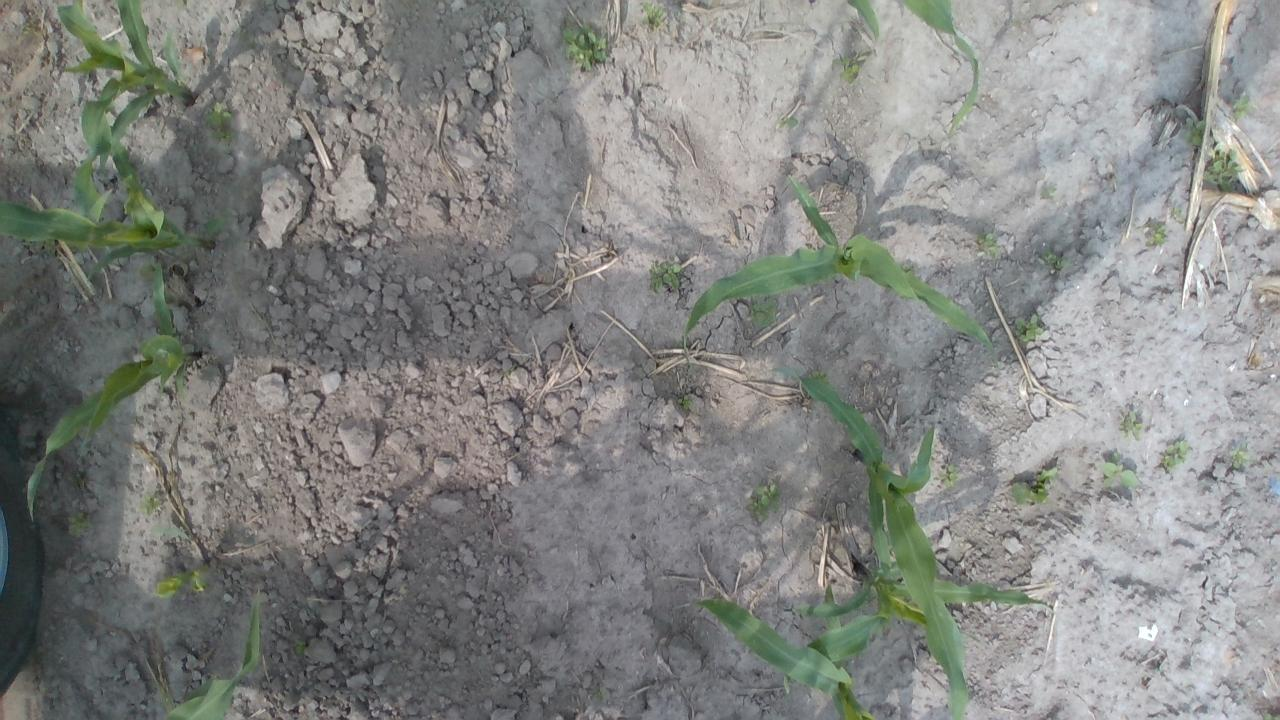Maize: (759, 364, 969, 720), (682, 171, 1000, 370), (28, 262, 202, 524), (780, 553, 1054, 687), (0, 131, 226, 282), (54, 0, 194, 222), (680, 580, 879, 720), (807, 0, 983, 133), (160, 585, 262, 720)
Weeds: (561, 22, 609, 73), (1010, 466, 1059, 507), (200, 99, 238, 145), (1202, 148, 1242, 190), (1102, 452, 1140, 492), (748, 482, 784, 522), (649, 260, 684, 294), (832, 53, 868, 84), (153, 574, 189, 600), (1012, 314, 1044, 342), (1160, 440, 1188, 470), (746, 300, 778, 326), (66, 512, 96, 538), (1184, 116, 1208, 148), (1118, 410, 1142, 442), (639, 0, 664, 29), (1036, 249, 1068, 270), (977, 231, 1000, 260), (136, 493, 163, 517), (1233, 92, 1255, 121), (1228, 445, 1252, 470), (138, 260, 168, 280), (1144, 220, 1166, 246), (938, 462, 958, 490), (190, 571, 208, 592), (894, 261, 916, 278), (776, 116, 800, 129), (677, 395, 694, 410), (1041, 184, 1056, 200), (293, 638, 308, 654), (1169, 204, 1182, 219), (592, 686, 604, 702), (1263, 710, 1280, 720), (506, 364, 517, 375)
